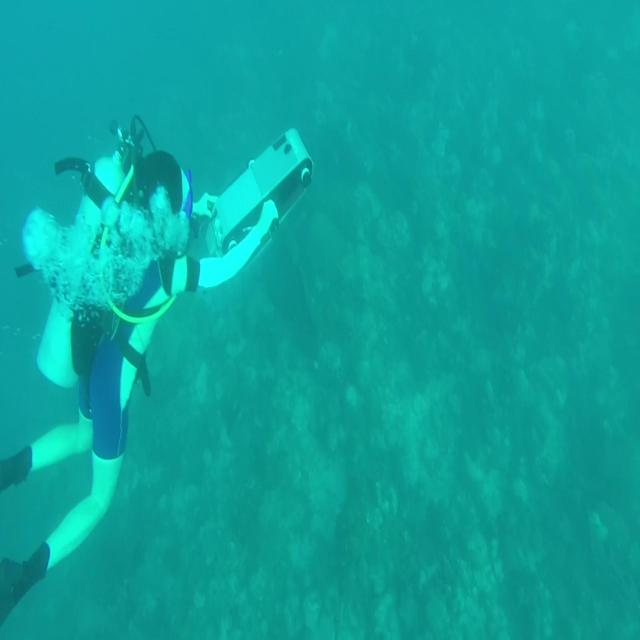human: (1, 116, 312, 625)
